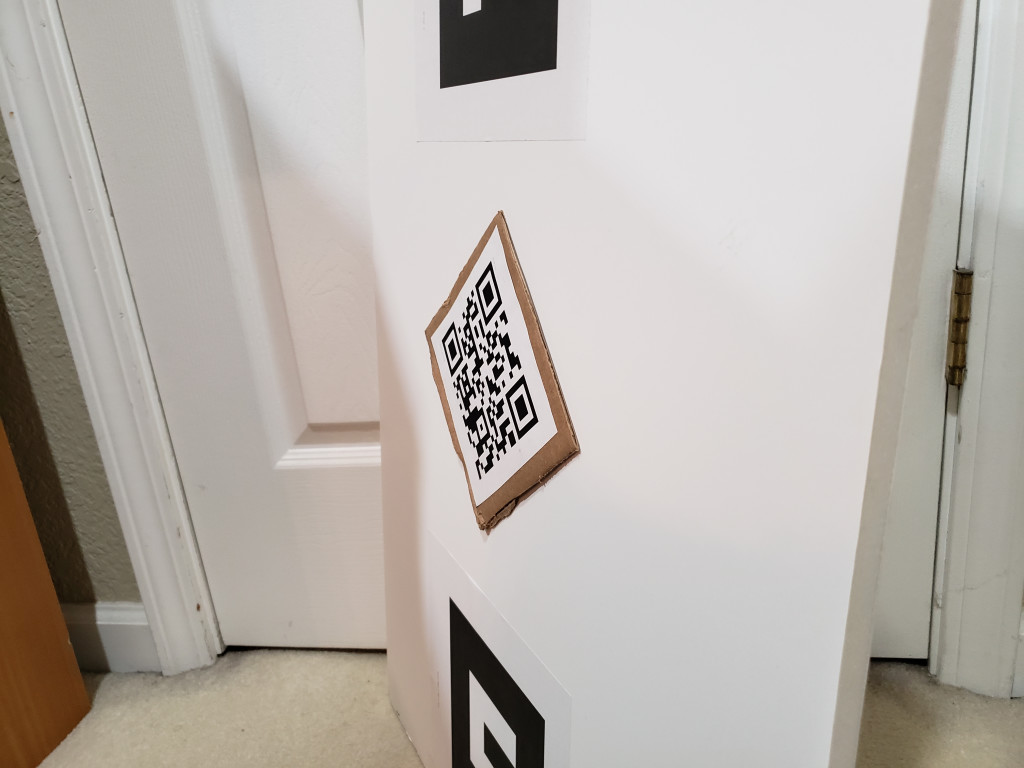QR_CODE: (425, 255, 552, 489)
